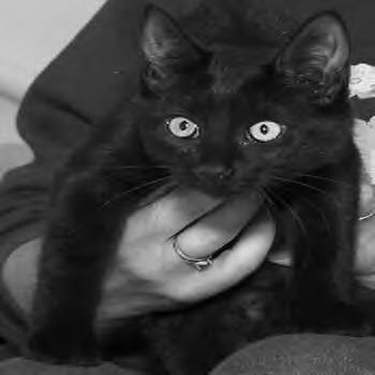cat: (31, 4, 369, 369)
